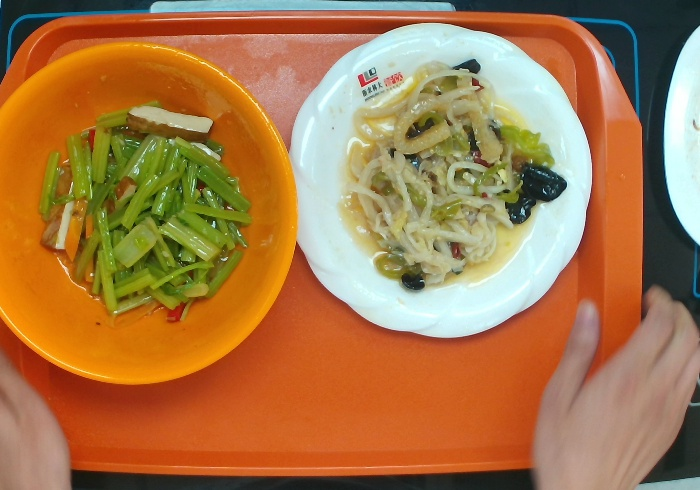ZNLD-Hua_Bian_Wan: (286, 19, 595, 343)
ZNLD-Ju_Se_Tang_Wan: (1, 38, 300, 386)
